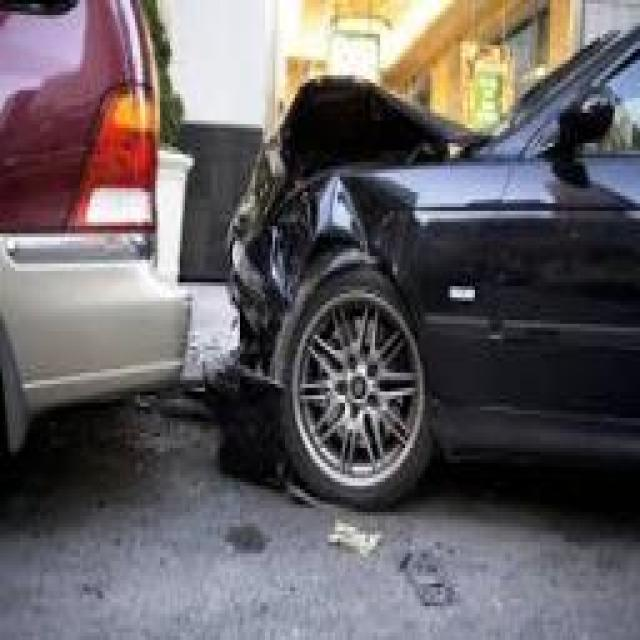Bonnet: (228, 69, 491, 244)
Bumper: (202, 245, 292, 487)
Fender: (266, 166, 429, 318)
